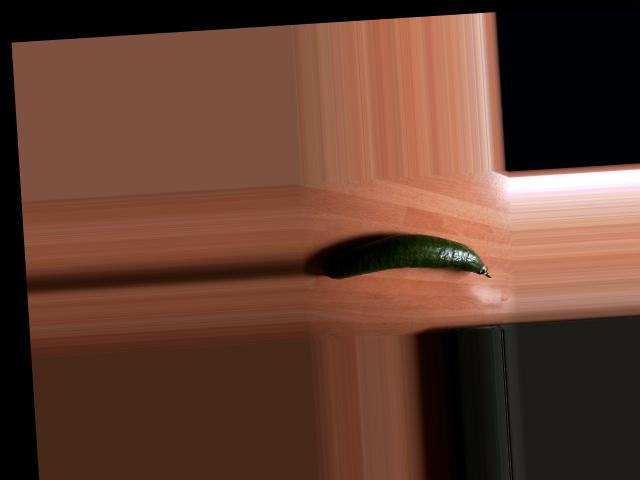cucumber: (319, 228, 492, 287)
